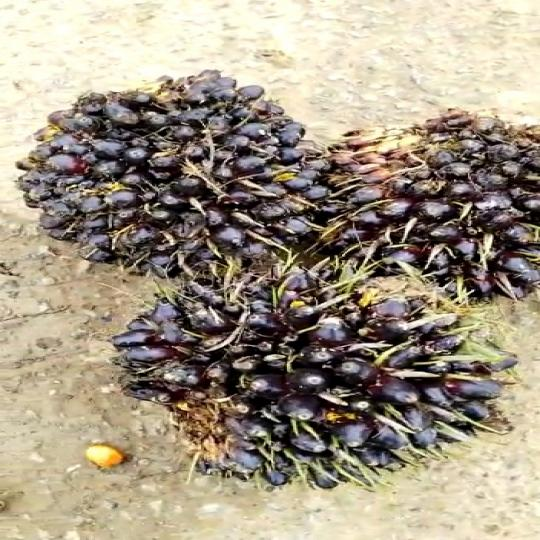mentah: (117, 267, 508, 492), (28, 64, 314, 261), (330, 116, 540, 309)
